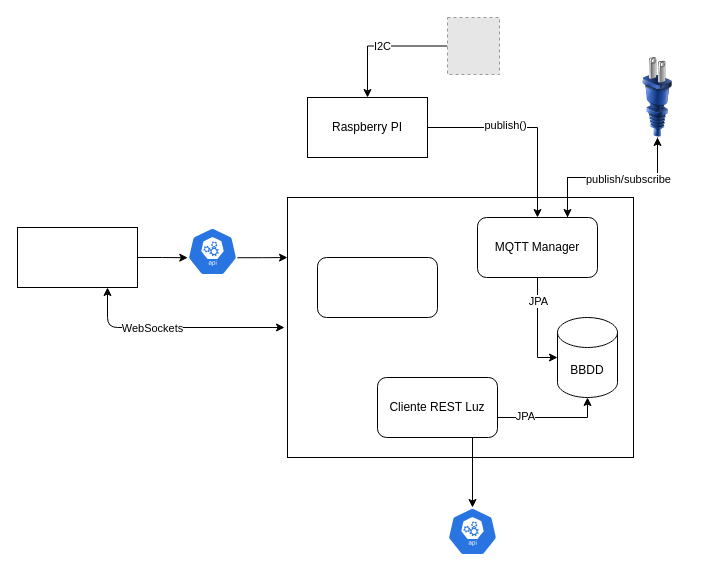
Image size: 715x573. Some labels were removed from this diagram. Grey dashed boxes stand in for pictures. Each missing label, with the box of its shape:
GUI - sesiones -servlets: (16, 226, 138, 288)
WebSocketManager: (316, 256, 438, 318)
